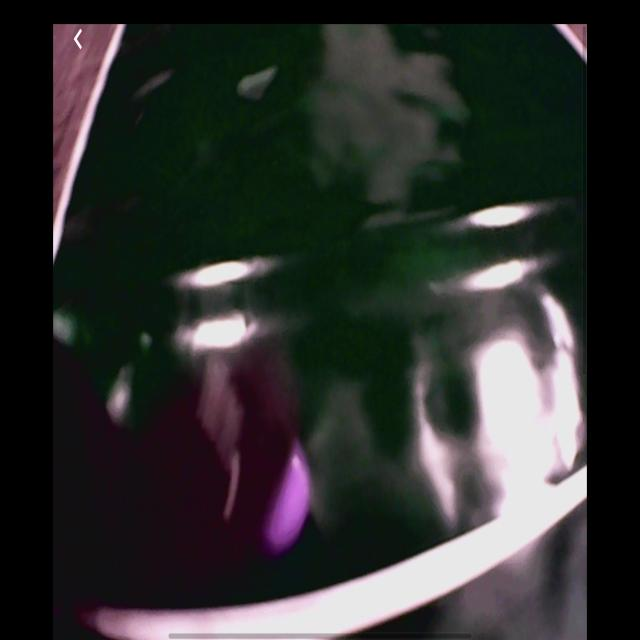ball: (262, 442, 310, 553)
